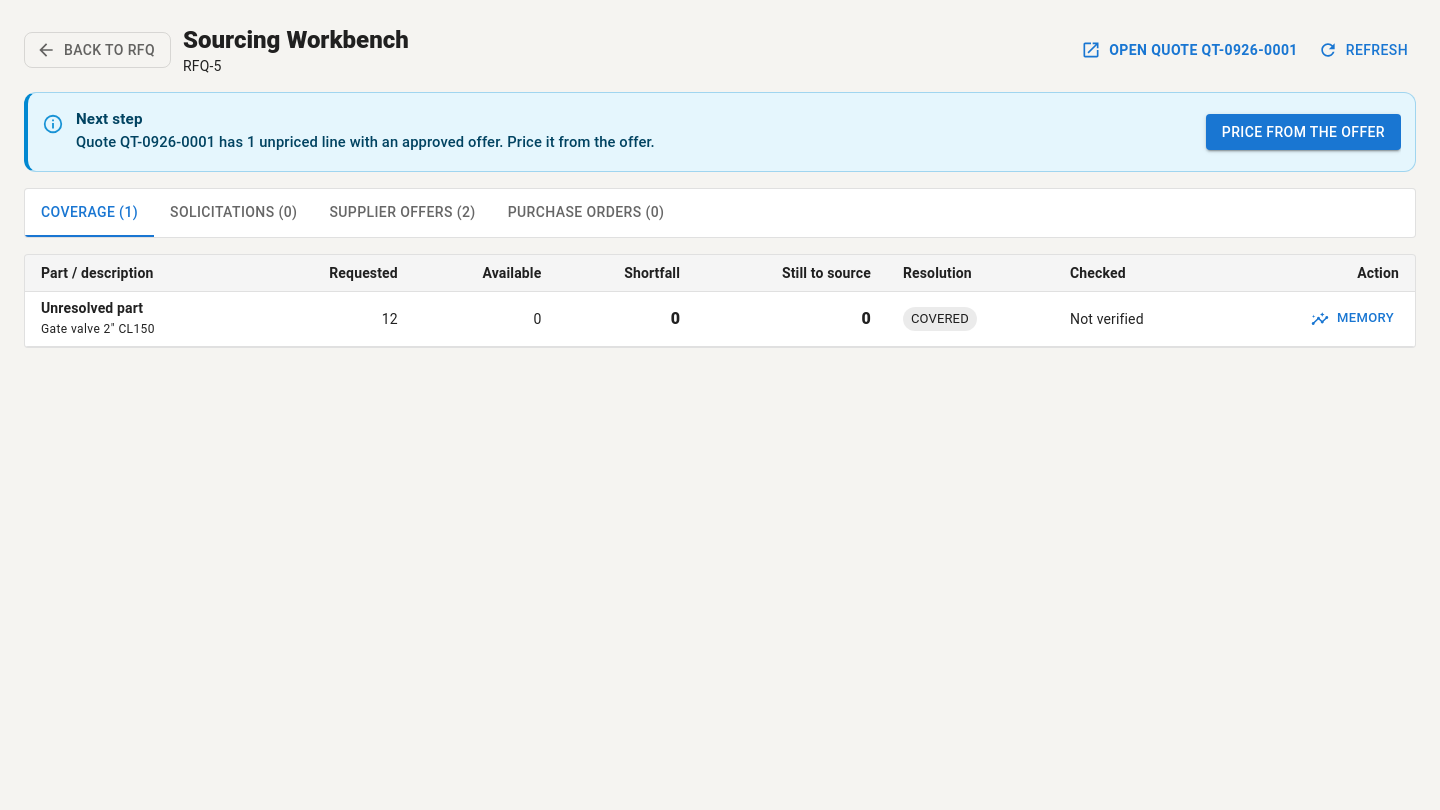
Test: the offer that was just awarded › reads as awarded — quantity, landed cost — and is never told it cannot be awarded
Click the tab "Supplier offers (2)": (402,213) [313,189,492,237]
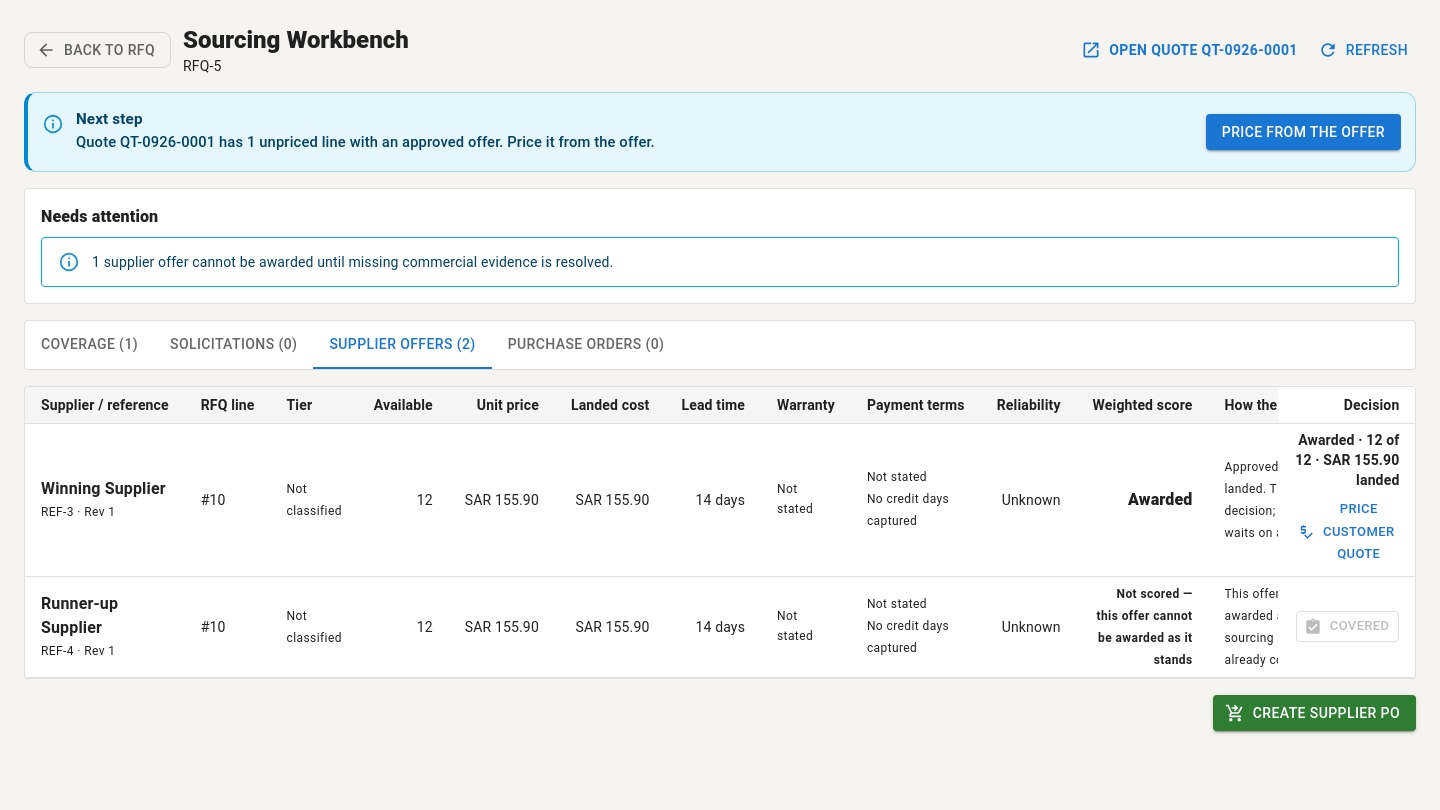
Expected: the text "Winning Supplier" does not show "sourcing requirement already covered", [25,423,1416,576]
Expected: the text "Winning Supplier" shows "Awarded · 12 of 12 · SAR 155.90 landed", [1295,432,1399,488]
Expected: the button "Price customer quote" is enabled, [1294,494,1399,570]
